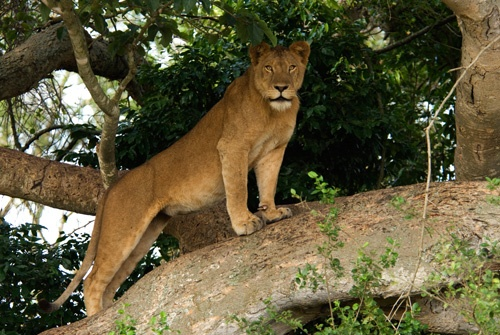lion: (34, 36, 316, 331)
